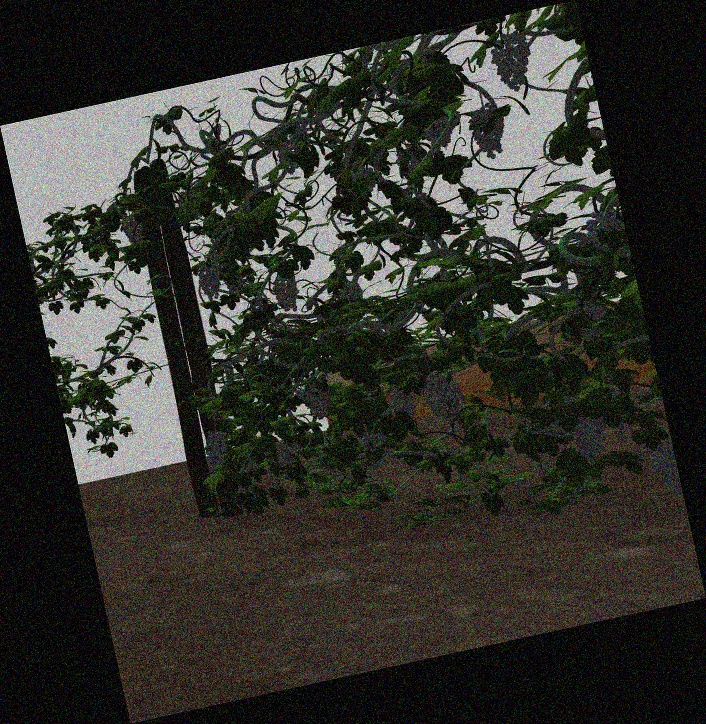grape: (490, 31, 533, 89), (570, 409, 609, 464), (471, 105, 508, 158), (651, 443, 678, 495), (274, 269, 300, 313), (422, 374, 449, 416), (361, 430, 389, 470), (197, 261, 223, 299), (306, 380, 331, 419), (391, 386, 416, 419), (273, 438, 298, 466), (208, 430, 229, 460), (122, 218, 144, 244), (207, 454, 225, 475)
